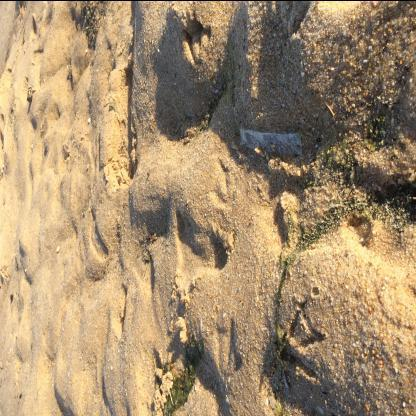plastik: (241, 127, 306, 157)
